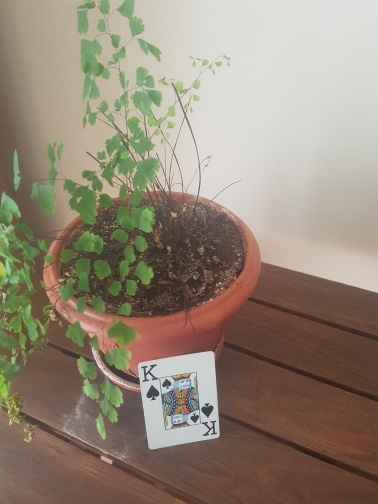king: (139, 352, 221, 451)
